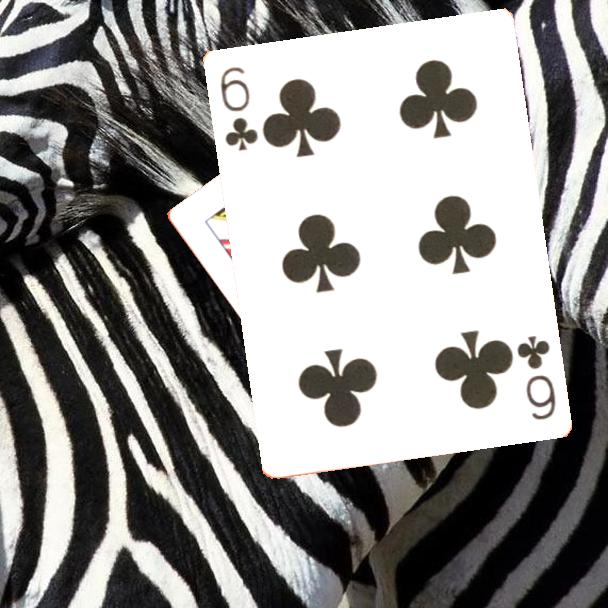c06: (513, 332, 559, 423), (216, 62, 261, 153)
